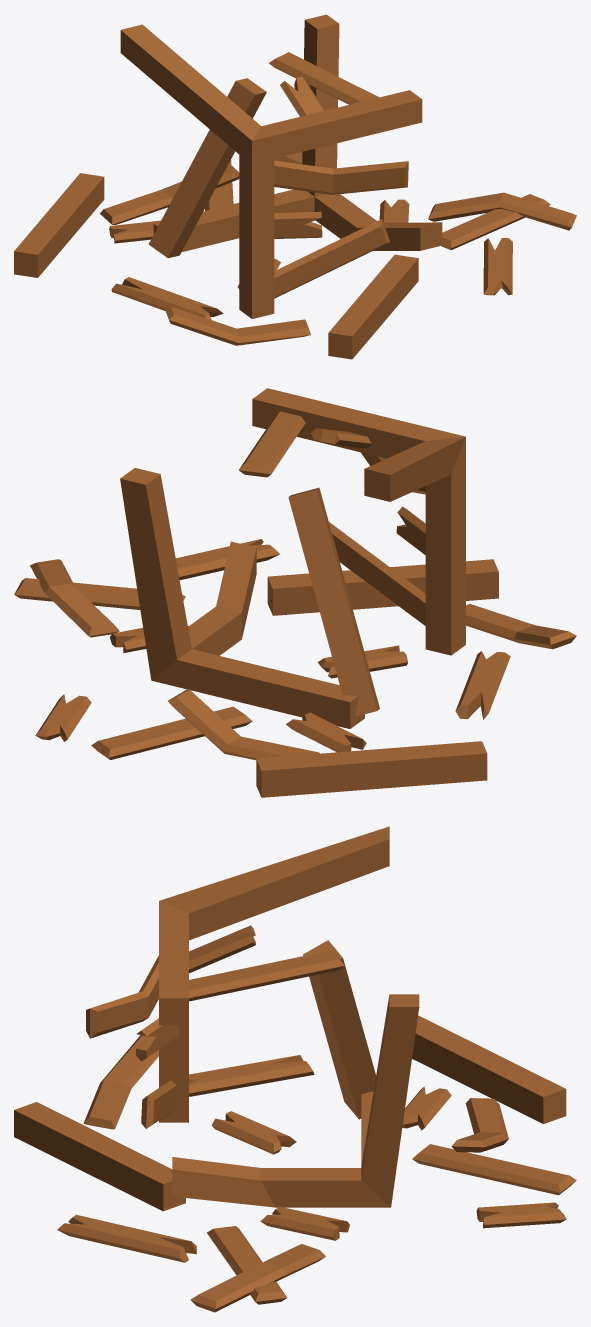
The model's file is broken_box.fbx.
The picture shows the model from 3 angles, top to bottom: view 1: azimuth 30°, elevation 25°; view 2: azimuth 150°, elevation 25°; view 3: azimuth 270°, elevation 25°; orthographic projection. The views are drawn at different scales.
Parts seen in each view (by area): view 1: wooden box.001; view 2: wooden box.001; view 3: wooden box.001.
Part boxes in pixels (left/top/right/bottom): wooden box.001: left=14, top=14, right=576, bottom=359; wooden box.001: left=14, top=388, right=576, bottom=797; wooden box.001: left=14, top=826, right=576, bottom=1312.
Bounding box in the file's own units: 154 × 134 × 71.25.
